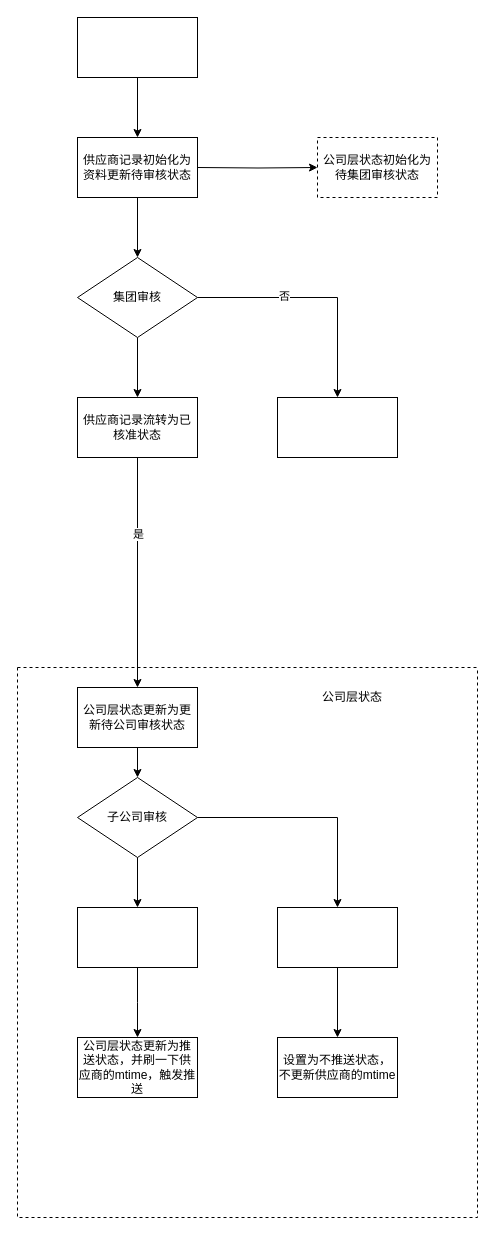
The diagram is 495 pixels wide and 1235 high, and some of its shapes have lost their labels. The shapes that lost their labels are listed below. From the top down, each one's centre as x and y in pixels, then its label:
(x=137, y=47): 某个子公司修改了基本信息
(x=337, y=427): 供应商为已驳回状态
(x=137, y=937): 更新
(x=337, y=937): 不更新
